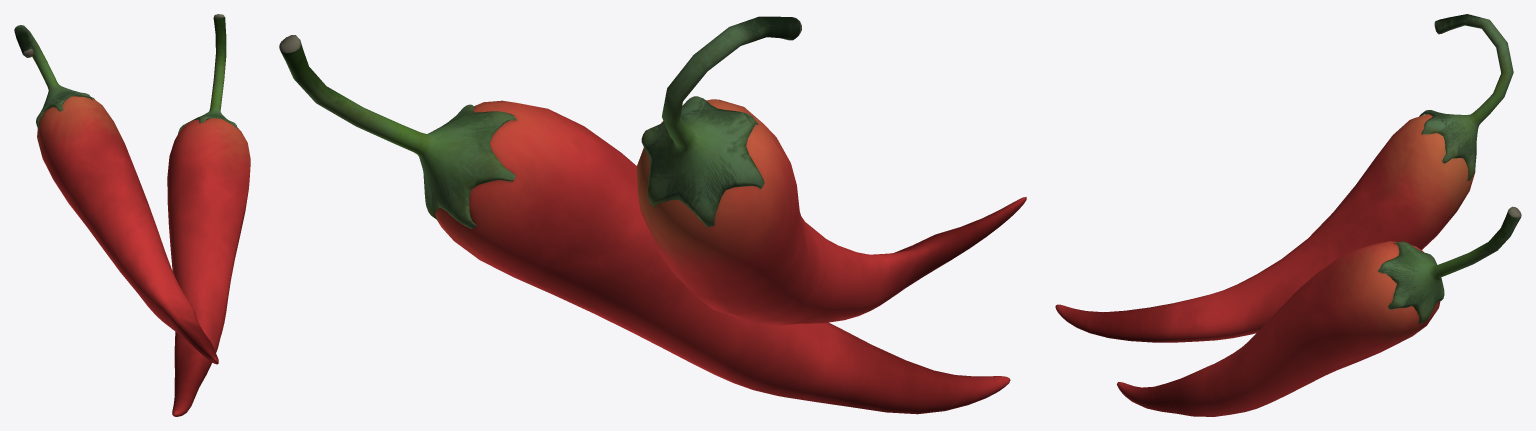
Rendered from chili_pepper.glb.
3 views of the same model, side by side, from view 1: azimuth 30°, elevation 25°; view 2: azimuth 150°, elevation 25°; view 3: azimuth 270°, elevation 25° (orthographic). The views are drawn at different scales.
Visible parts, largest first — view 1: Chili pepper1_1, Chili pepper2_2; view 2: Chili pepper2_2, Chili pepper1_1; view 3: Chili pepper1_1, Chili pepper2_2.
Part boxes in pixels (box(x1,y1,x2,y2)): Chili pepper1_1: box(14, 25, 218, 364); Chili pepper2_2: box(167, 14, 250, 416); Chili pepper2_2: box(279, 35, 1010, 414); Chili pepper1_1: box(636, 16, 1026, 325); Chili pepper1_1: box(1055, 14, 1513, 342); Chili pepper2_2: box(1117, 206, 1521, 416).
Bounding box in the file's own units: 2.48 × 3.03 × 3.44.
1 material, 1 textured.
